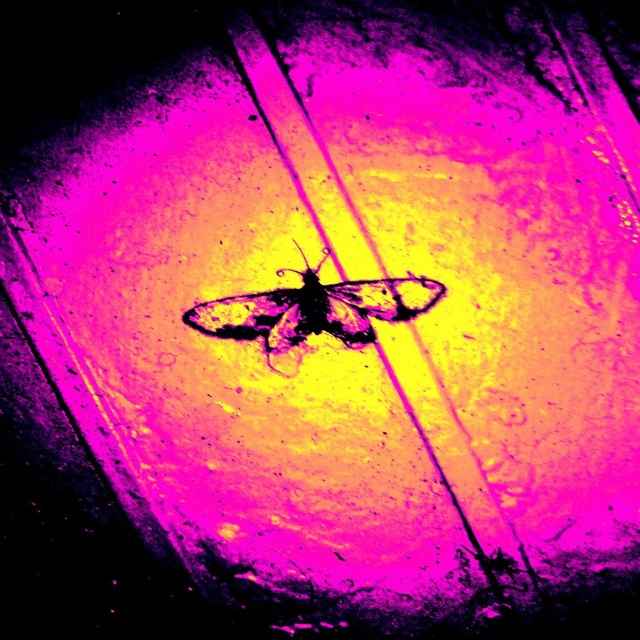Butterfly: (180, 235, 446, 370)
